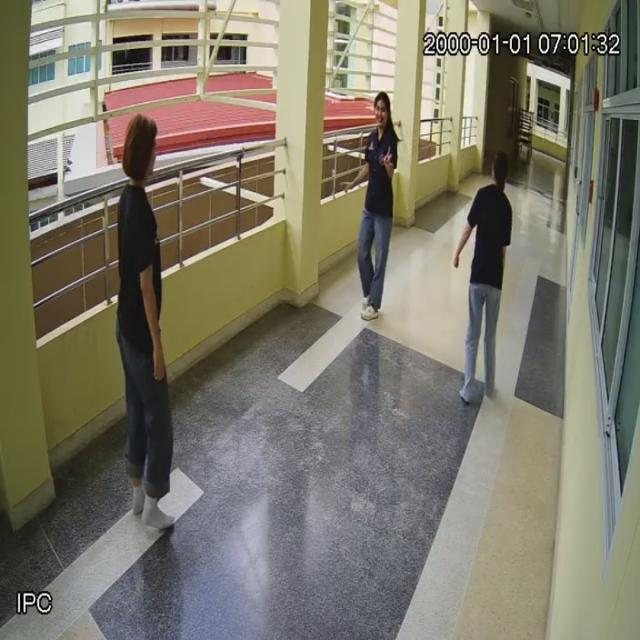normal: (112, 105, 185, 542), (461, 135, 516, 413), (347, 75, 401, 322)
